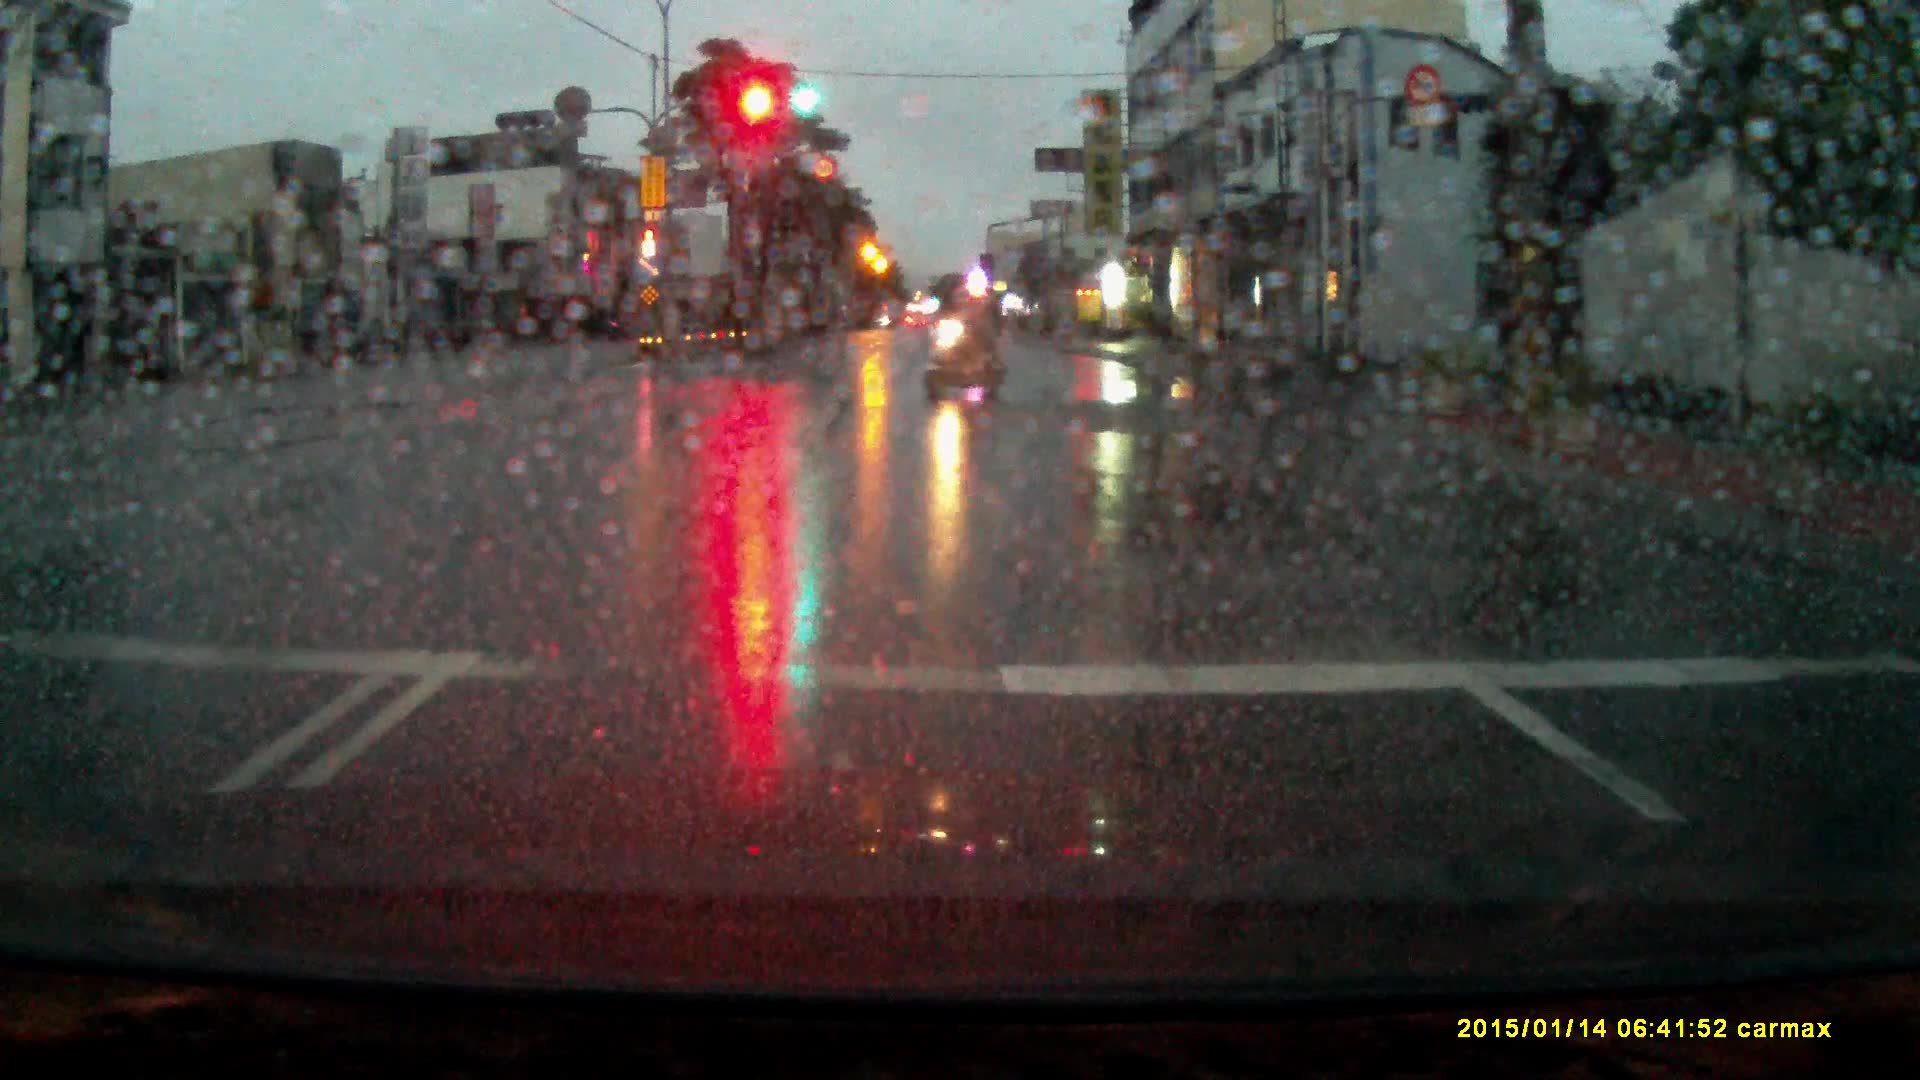rider: (925, 278, 1007, 404)
